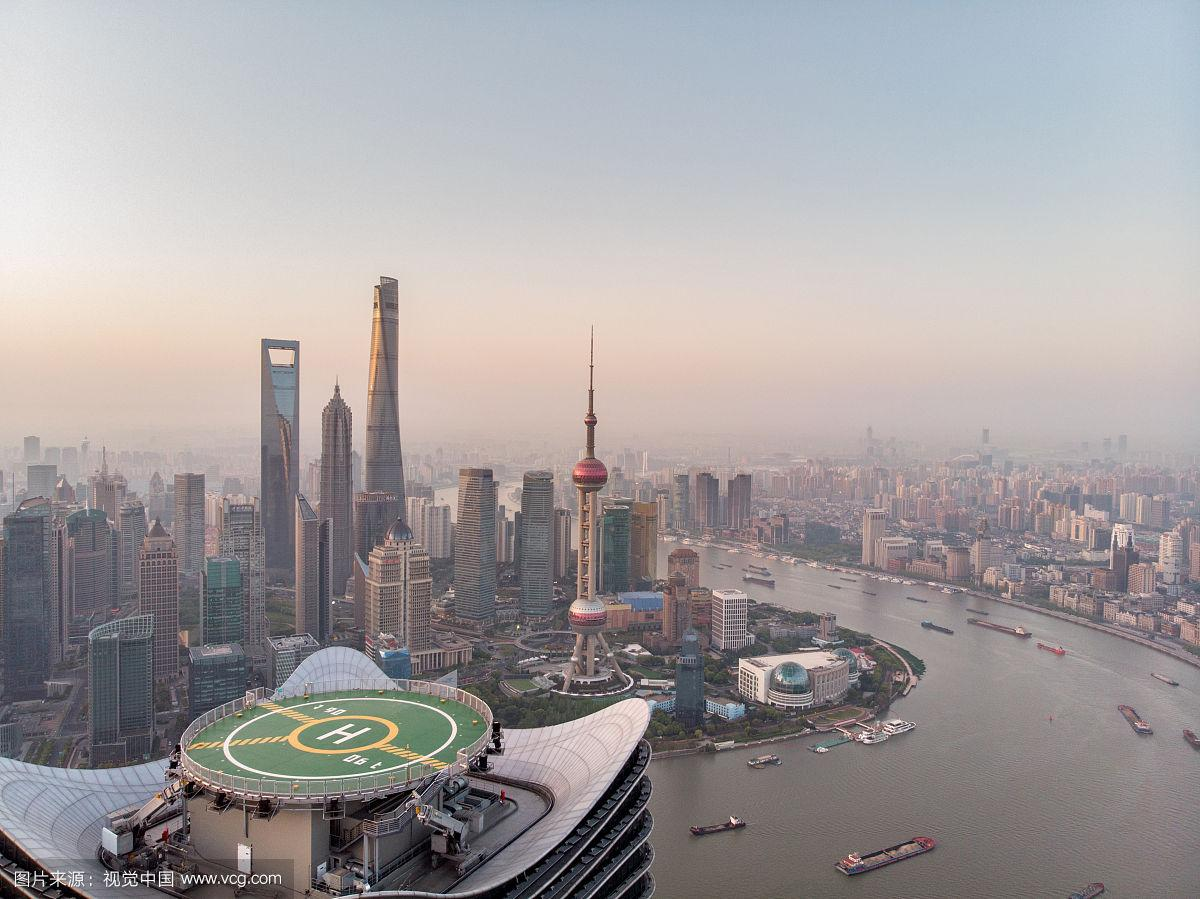Apron: (288, 715, 399, 757)
